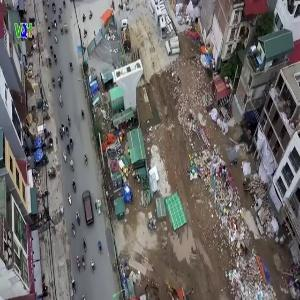drone: (214, 110, 276, 172)
